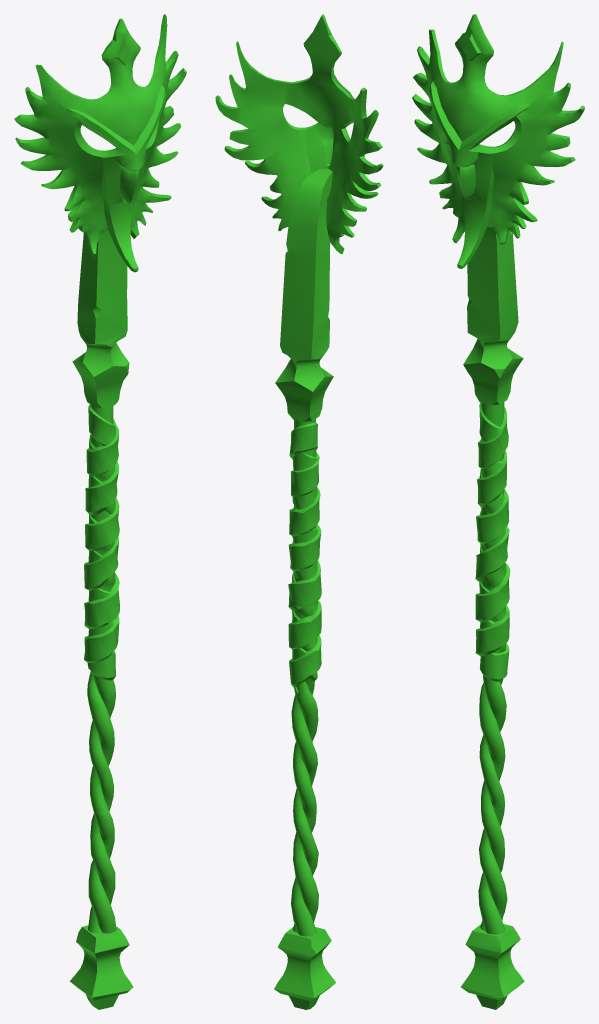
Rendered from SM_Rune_Staff_4.obj.
The picture shows the model from 3 angles, left to right: view 1: azimuth 30°, elevation 25°; view 2: azimuth 150°, elevation 25°; view 3: azimuth 330°, elevation 25°; orthographic projection. The views are drawn at different scales.
Size of the model in its own units: 259 by 1455 by 125.
